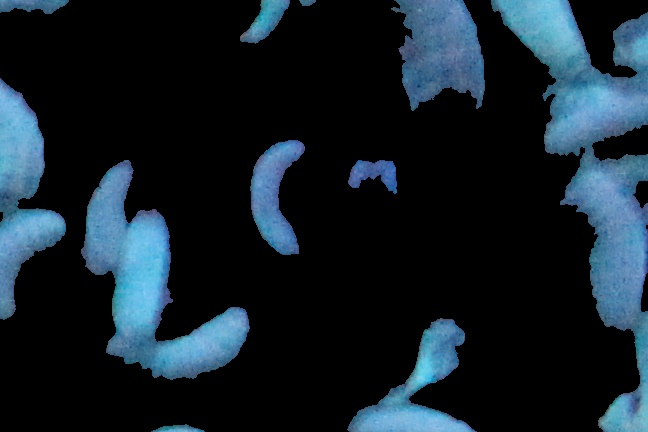larvae: (351, 1, 491, 136), (558, 164, 648, 331), (107, 303, 253, 384), (447, 1, 603, 76), (247, 132, 324, 263), (526, 80, 648, 160), (1, 209, 68, 323), (116, 203, 174, 334), (74, 156, 133, 267), (1, 71, 41, 205), (201, 1, 295, 55)
